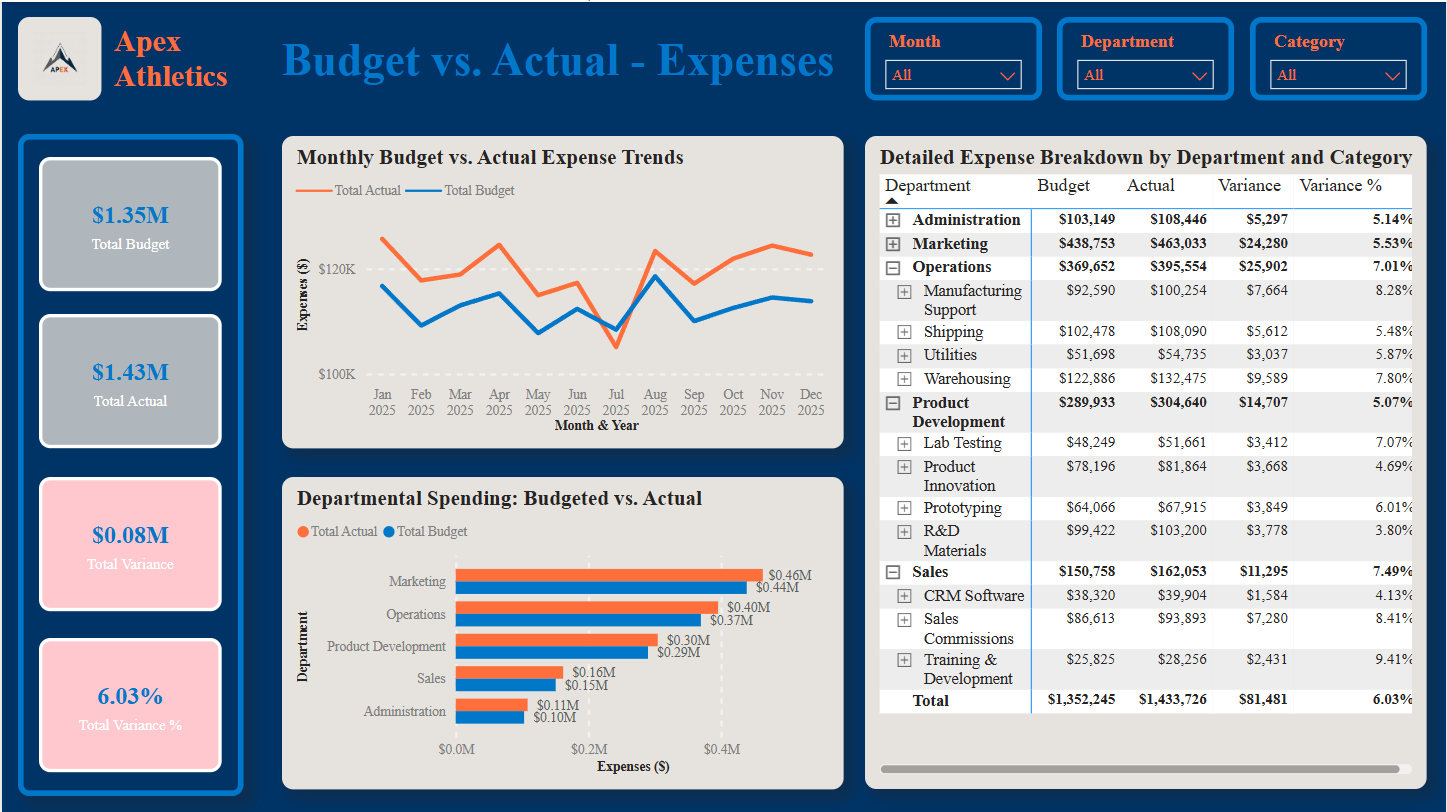

The page's visual inventory and layout, read from the dashboard file:
{"tool":"powerbi","page":{"name":"Budget v Actual","canvas":[1280,720],"ordinal":0},"visuals":[{"type":"shape","box":[14,117,200,587],"z":0},{"type":"image","box":[14,13,74,74],"z":1000},{"type":"card","fields":{"Values":["apex_budget_actuals.Total Budget"]},"box":[33,137,162,119],"z":2000},{"type":"card","fields":{"Values":["apex_budget_actuals.Total Actual"]},"box":[33,277,162,119],"z":3000},{"type":"card","fields":{"Values":["apex_budget_actuals.Total Variance"]},"box":[33,421,162,119],"z":4000},{"type":"card","fields":{"Values":["apex_budget_actuals.Total Variance %"]},"box":[33,564,162,119],"z":5000},{"type":"lineChart","title":"Monthly Budget vs. Actual Expense Trends","fields":{"Y":["apex_budget_actuals.Total Actual","apex_budget_actuals.Total Budget"],"Category":["apex_budget_actuals.MonthYear"]},"box":[248,119,498,277],"z":6000},{"type":"pivotTable","title":" Detailed Expense Breakdown by Department and Category","fields":{"Rows":["apex_budget_actuals.Department","apex_budget_actuals.Category","apex_budget_actuals.MonthYear"],"Values":["apex_budget_actuals.Total Budget","apex_budget_actuals.Total Actual","apex_budget_actuals.Total Variance","apex_budget_actuals.Total Variance %"]},"box":[765,119,498,579],"z":7000},{"type":"clusteredBarChart","title":"Departmental Spending: Budgeted vs. Actual","fields":{"Category":["apex_budget_actuals.Department"],"Y":["apex_budget_actuals.Total Actual","apex_budget_actuals.Total Budget"]},"box":[248,421,498,277],"z":8000},{"type":"shape","box":[99,13,115,74],"z":10000},{"type":"shape","box":[248,13,498,74],"z":11000},{"type":"slicer","fields":{"Values":["apex_budget_actuals.MonthYear"]},"box":[765,13,157,74],"z":12000,"group":"g1"},{"type":"group","id":"g1","title":"Group 1","box":[765,13,498,74],"z":12000},{"type":"slicer","fields":{"Values":["apex_budget_actuals.Department"]},"box":[935,13,157,74],"z":13000,"group":"g1"},{"type":"slicer","fields":{"Values":["apex_budget_actuals.Category"]},"box":[1106,13,157,74],"z":14000,"group":"g1"}]}

Visuals, with their boxes in screenshot pixels (x1, y1, x2, y2), scaled from the page's 1280x720 canvas onto the 1447x812 screenshot:
shape: 16:132:242:794
image: 16:15:99:98
card - apex_budget_actuals.Total Budget: 37:155:220:289
card - apex_budget_actuals.Total Actual: 37:312:220:447
card - apex_budget_actuals.Total Variance: 37:475:220:609
card - apex_budget_actuals.Total Variance %: 37:636:220:770
"Monthly Budget vs. Actual Expense Trends" lineChart: 280:134:843:447
" Detailed Expense Breakdown by Department and Category" pivotTable: 865:134:1428:787
"Departmental Spending: Budgeted vs. Actual" clusteredBarChart: 280:475:843:787
shape: 112:15:242:98
shape: 280:15:843:98
slicer - apex_budget_actuals.MonthYear: 865:15:1042:98
"Group 1" group: 865:15:1428:98
slicer - apex_budget_actuals.Department: 1057:15:1234:98
slicer - apex_budget_actuals.Category: 1250:15:1428:98
